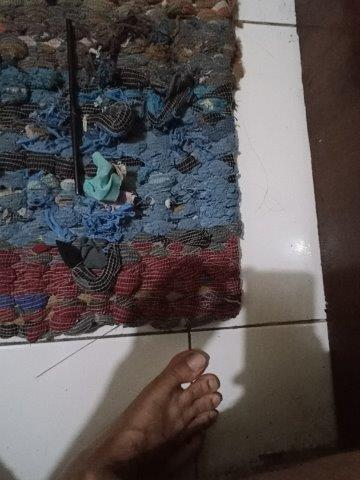sedotan: (66, 19, 83, 194)
